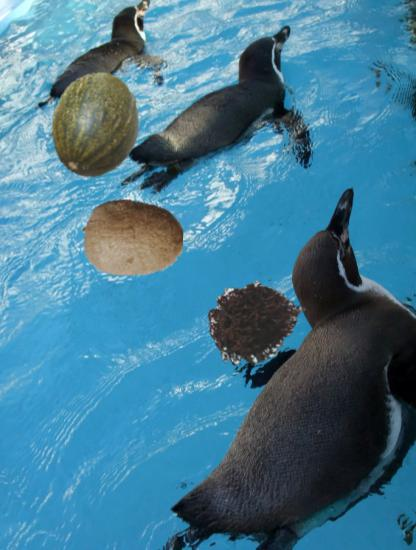Kiwi: (81, 186, 184, 289)
Melon: (45, 74, 146, 175)
Rambutan: (207, 270, 307, 370)
